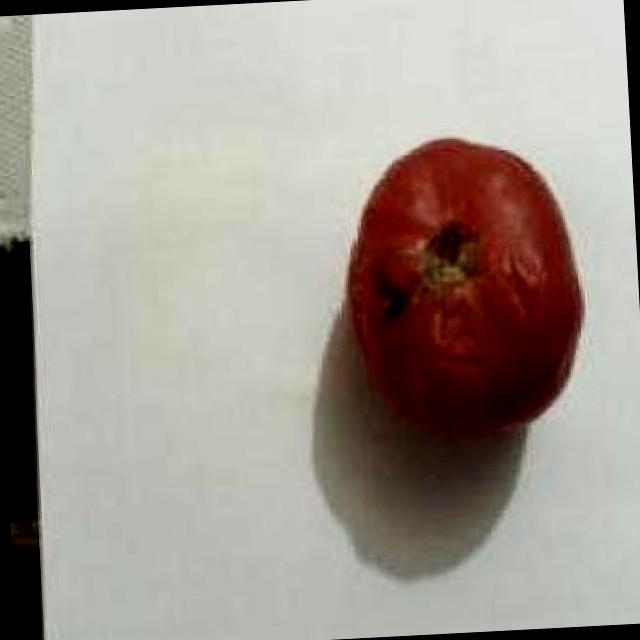Rotten_Tomato: (336, 118, 601, 454)
